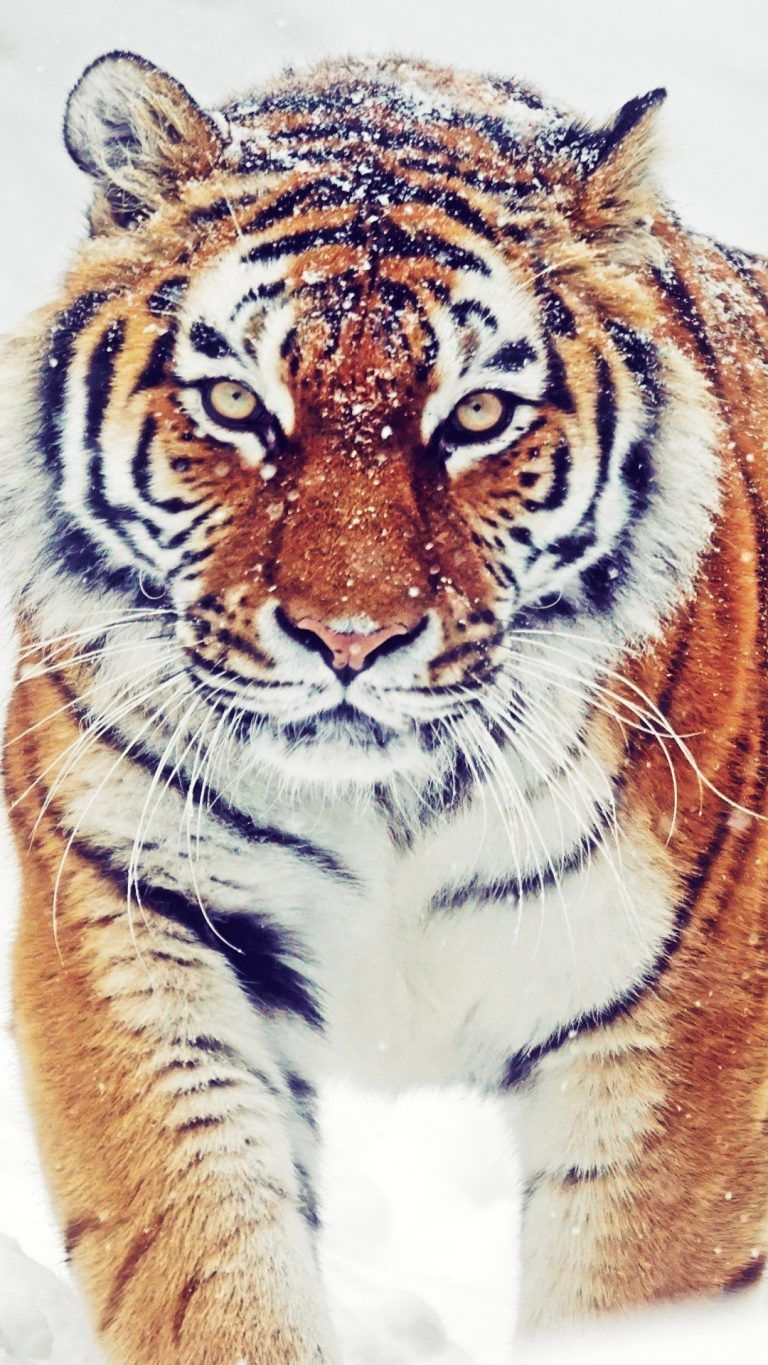Tigrew: (3, 56, 712, 969)
